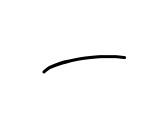minus: (42, 55, 126, 74)
